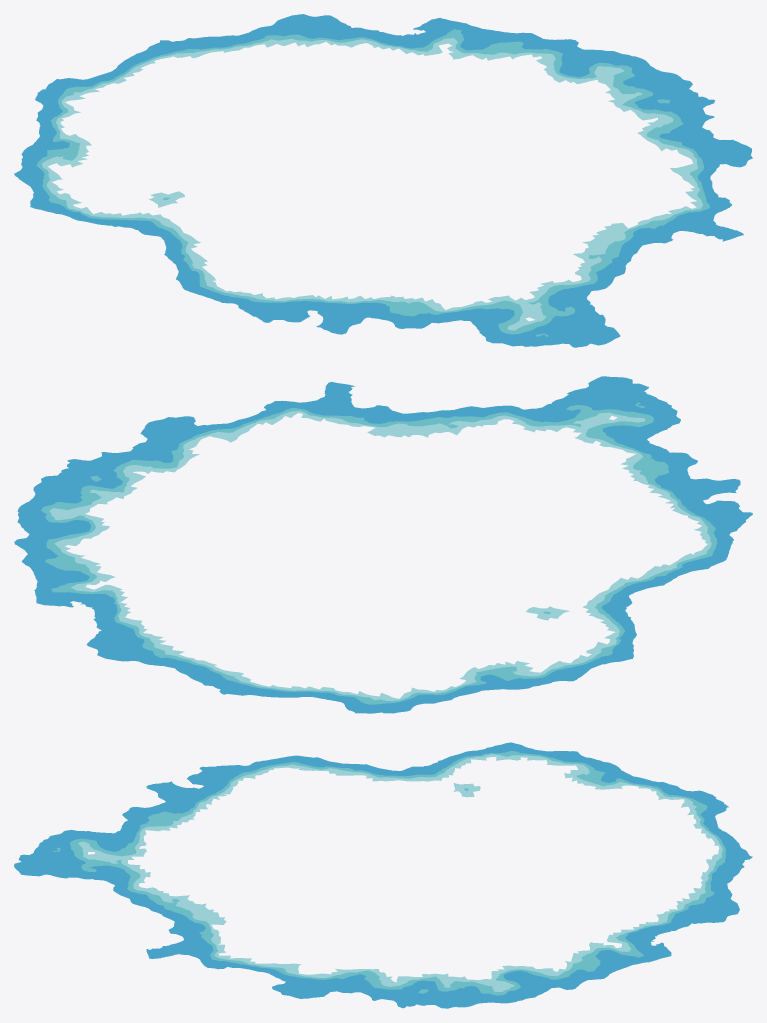
File: Isl-hilly6-Water.fbx
3 renders of one model, top to bottom at view 1: azimuth 30°, elevation 25°; view 2: azimuth 150°, elevation 25°; view 3: azimuth 270°, elevation 25°, orthographic. The views are drawn at different scales.
Visible parts, largest first — view 1: Isl-hilly6-Water; view 2: Isl-hilly6-Water; view 3: Isl-hilly6-Water.
Part boxes in pixels (x1,y1,x2,y2): Isl-hilly6-Water: (14, 14, 752, 347); Isl-hilly6-Water: (14, 376, 752, 713); Isl-hilly6-Water: (14, 742, 752, 1008).
Size of the model in its own units: 102 by 0 by 120.
